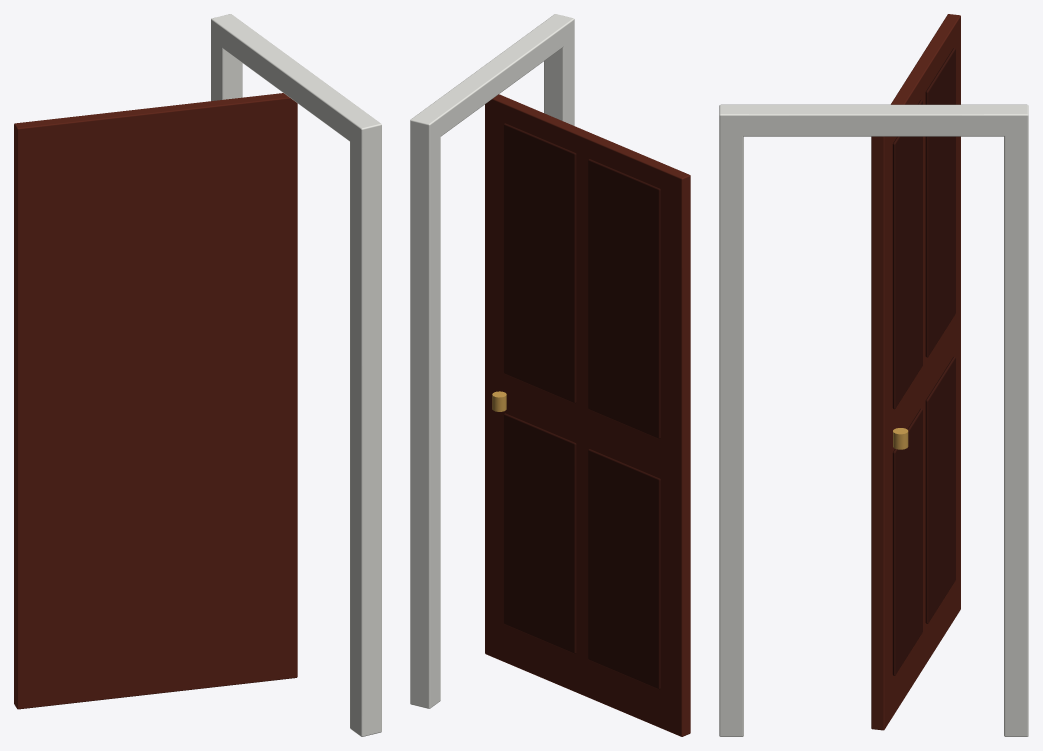
The model's file is door_mahogany_open.glb.
3 views of the same model, side by side, from view 1: azimuth 30°, elevation 25°; view 2: azimuth 150°, elevation 25°; view 3: azimuth 270°, elevation 25° (orthographic). The views are drawn at different scales.
Parts seen in each view (by area): view 1: blatt, pfosten-1, sturz, pfosten1; view 2: blatt, kassette.002, kassette.003, pfosten1, kassette, kassette.001, sturz, pfosten-1; view 3: blatt, pfosten-1, pfosten1, sturz, kassette.002, kassette.003, kassette.001, kassette.
Boxes of the visible parts, box(x1,y1,x2,y2) form: blatt: box(14, 93, 297, 709); pfosten-1: box(350, 128, 381, 736); sturz: box(211, 14, 381, 148); pfosten1: box(211, 26, 242, 100); blatt: box(485, 94, 690, 736); kassette.002: box(503, 123, 576, 403); kassette.003: box(588, 159, 660, 438); pfosten1: box(410, 123, 440, 708); kassette: box(503, 413, 576, 653); kassette.001: box(588, 449, 660, 689); sturz: box(410, 14, 574, 143); pfosten-1: box(544, 25, 574, 125); blatt: box(871, 14, 960, 730); pfosten-1: box(719, 121, 743, 736); pfosten1: box(1004, 121, 1028, 736); sturz: box(719, 104, 1028, 136); kassette.002: box(892, 99, 922, 409); kassette.003: box(925, 48, 955, 357); kassette.001: box(925, 356, 955, 623); kassette: box(892, 408, 922, 675).
Bounding box in the file's own units: 0.9663 × 2.22 × 1.
